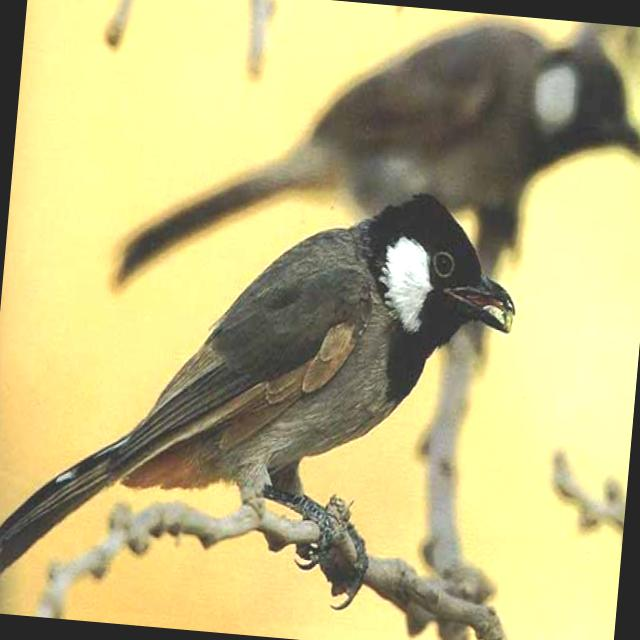bird: (0, 151, 525, 631), (101, 0, 640, 336)
